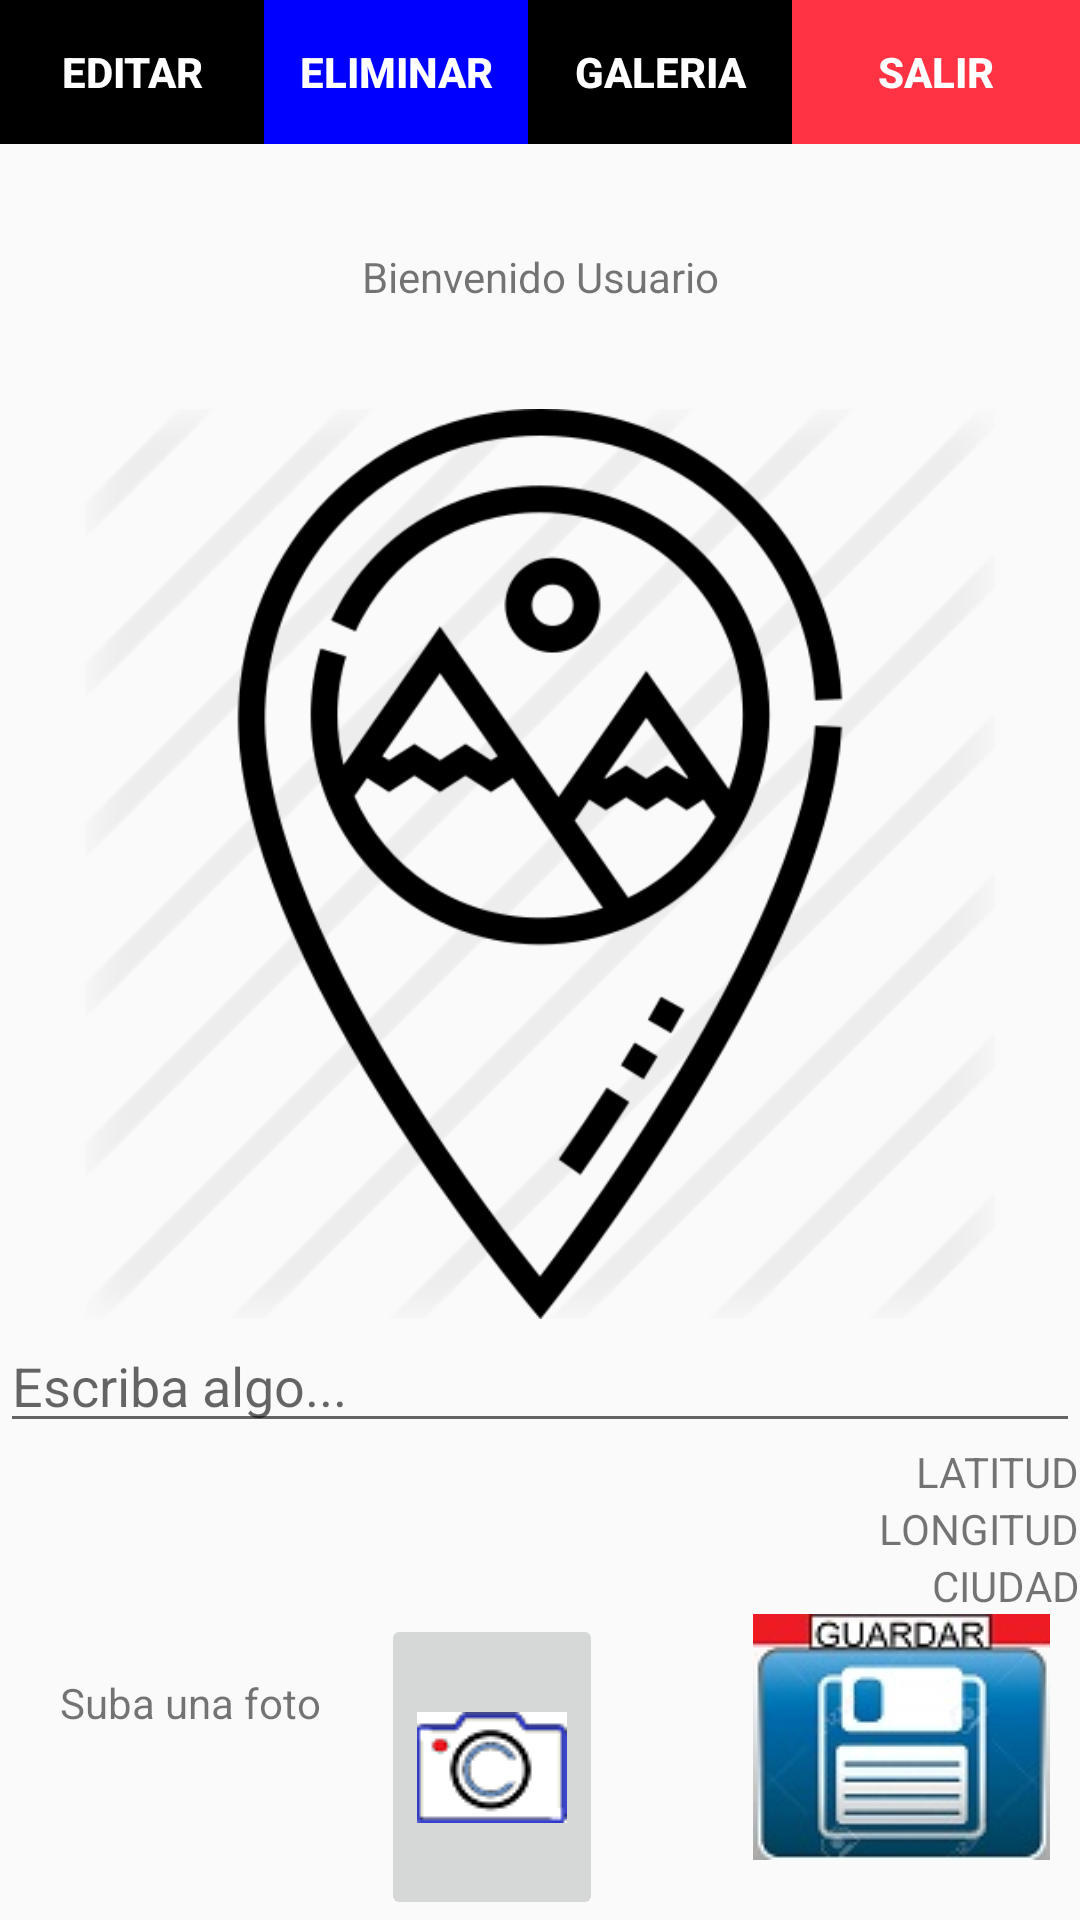

Named icons in this screenshot (1080 × 1920) and their bounding boxes, (x1=x1, y1=y1, x2=x2, y2=y2):
camarita: (x1=393, y1=1632, x2=591, y2=1902)
